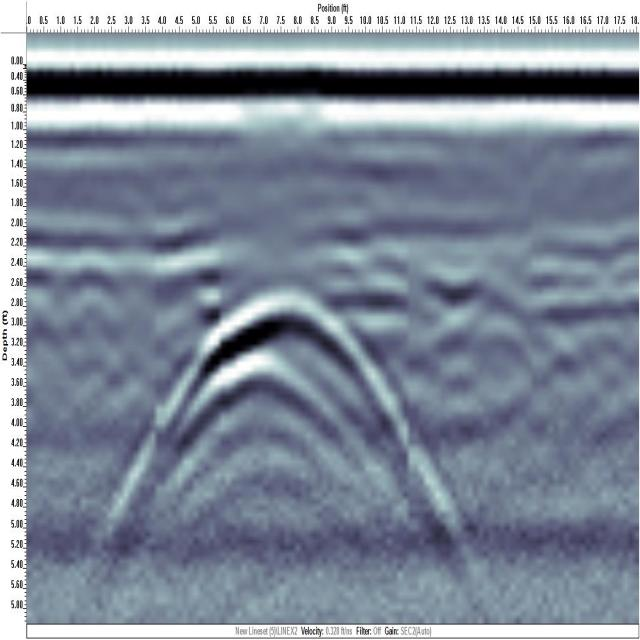hyperbola: (144, 277, 423, 493)
